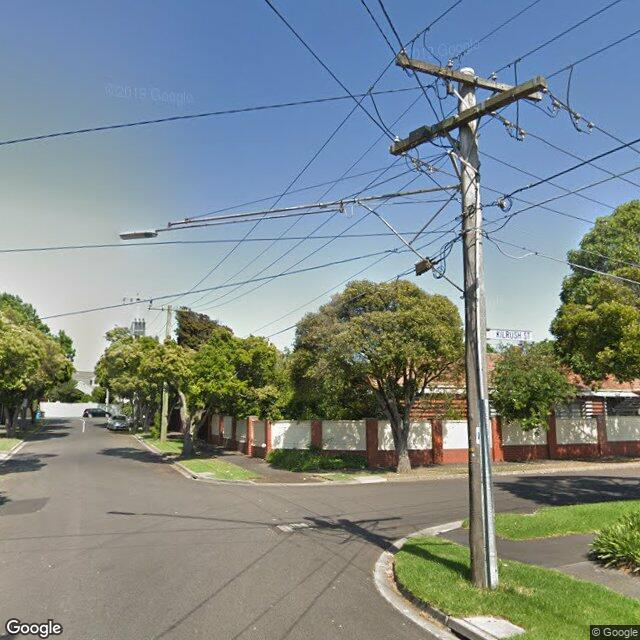crossarm: (390, 74, 595, 175), (396, 49, 543, 104)
streetlight: (119, 182, 464, 241)
timber-pole: (459, 66, 500, 588), (160, 304, 174, 441)
